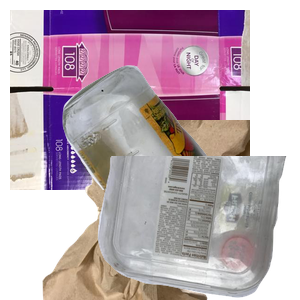cardboard: (10, 10, 250, 190)
glass: (60, 63, 300, 243)
plastic: (95, 156, 300, 300)
trash: (40, 120, 280, 300)
